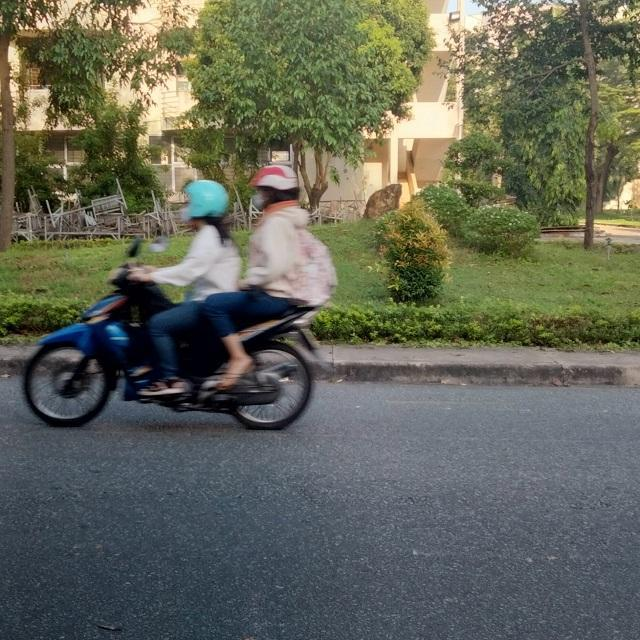Helmet: (176, 174, 224, 226), (250, 163, 298, 213)
